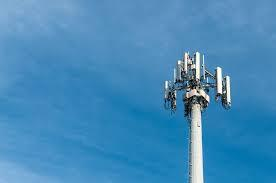antenna: (226, 73, 232, 106), (217, 65, 224, 93), (194, 51, 200, 78), (183, 52, 190, 75), (163, 79, 169, 104), (176, 58, 181, 83)
